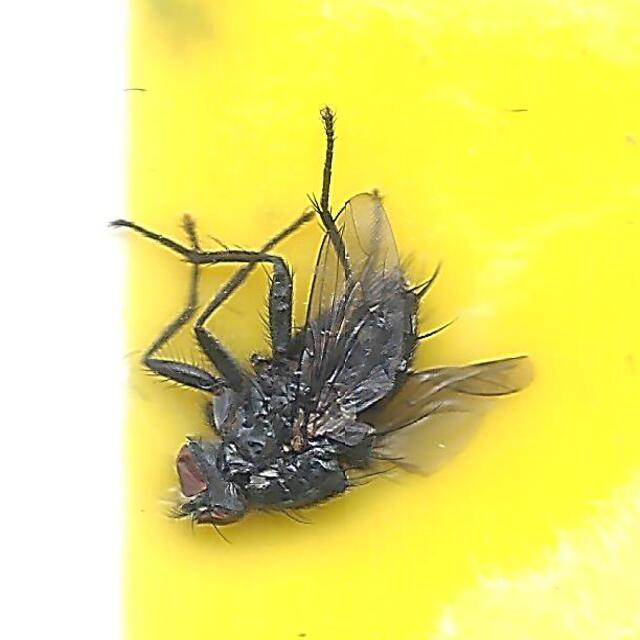Brachycera: (105, 110, 535, 530)
